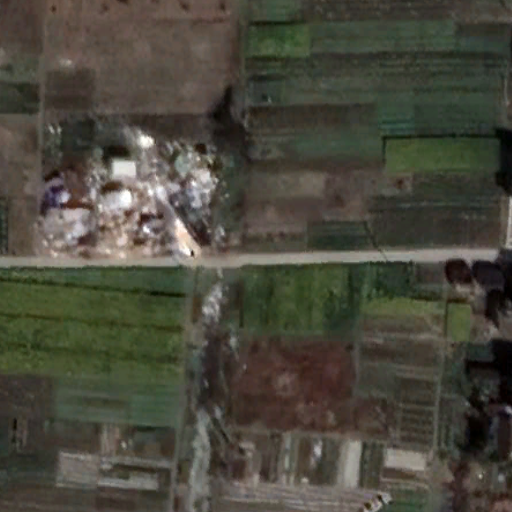msw: (88, 139, 216, 253)
